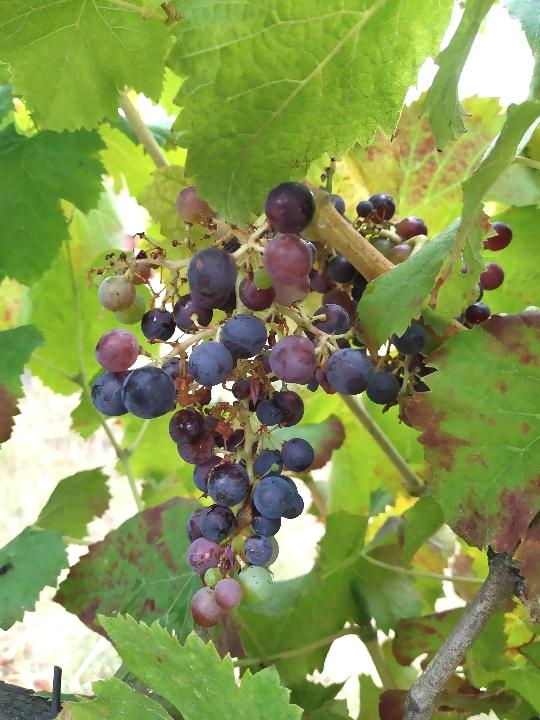grape: (77, 182, 515, 632)
